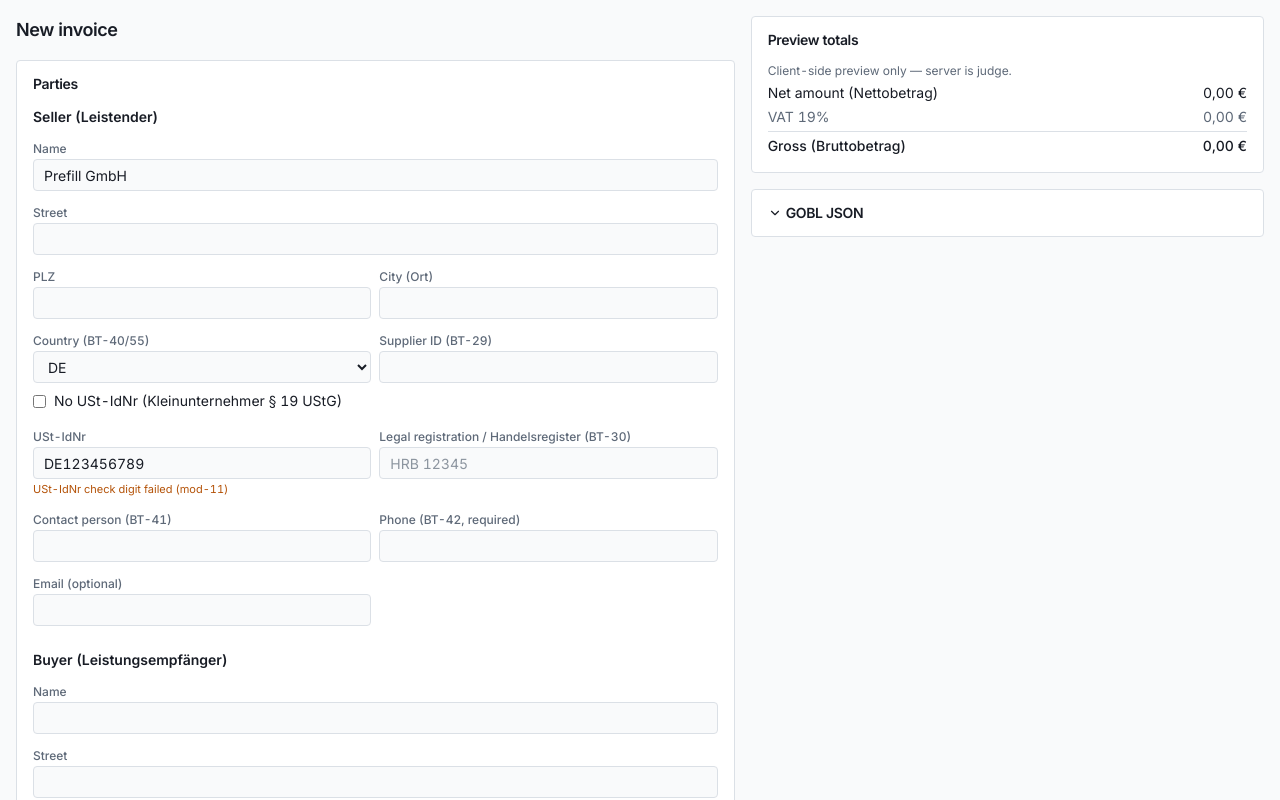
Test case: NewInvoicePage › Kleinunternehmer toggle swaps USt-IdNr for Steuernummer
Click the checkbox labelled "No USt-IdNr (Kleinunternehmer § 19 UStG)". click: (40, 401)
box: [33,394,46,408]
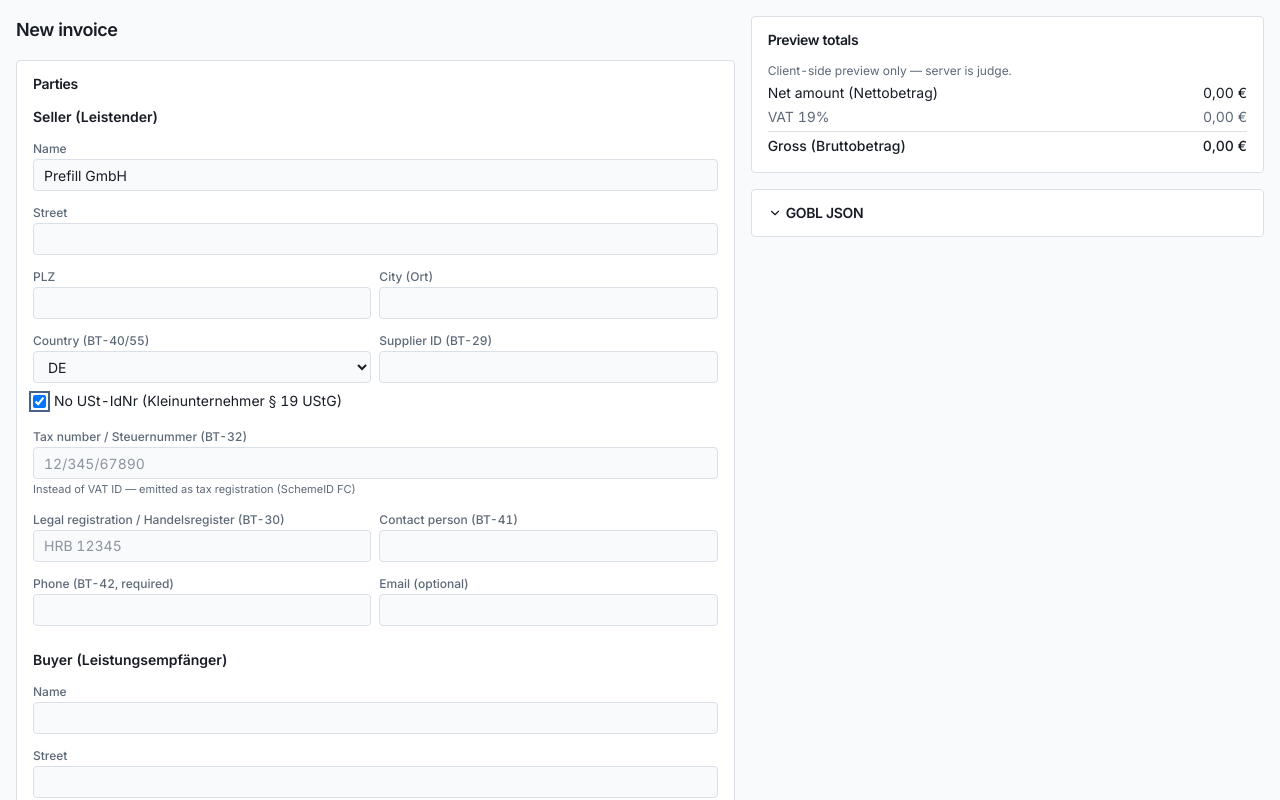
expect the field labelled "Tax number / Steuernummer (BT-32)" is shown: met, box [33,447,718,479]
